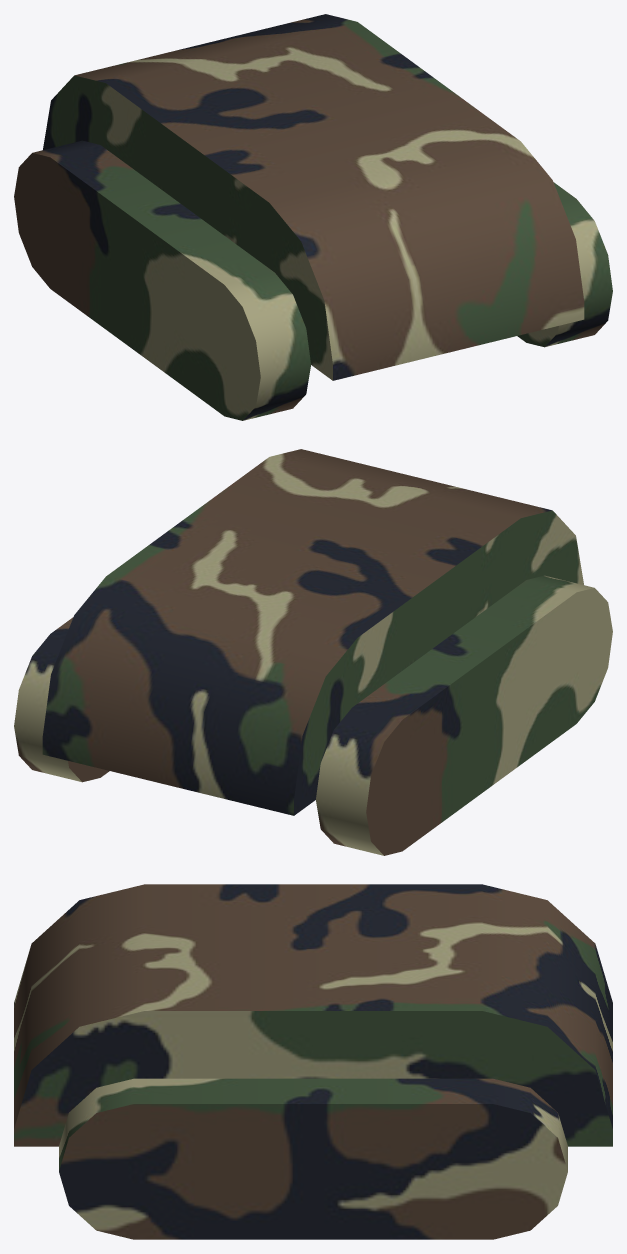
The model's file is body.fbx.
3 renders of one model, top to bottom at view 1: azimuth 30°, elevation 25°; view 2: azimuth 150°, elevation 25°; view 3: azimuth 270°, elevation 25°, orthographic. The views are drawn at different scales.
Visible parts, largest first — view 1: Body; view 2: Body; view 3: Body.
Boxes of the visible parts, box(x1,y1,x2,y2) form: Body: box(14, 14, 612, 420); Body: box(14, 449, 612, 855); Body: box(14, 884, 612, 1239).
Bounding box in the file's own units: 280 × 150 × 400.
1 material, 1 textured.
